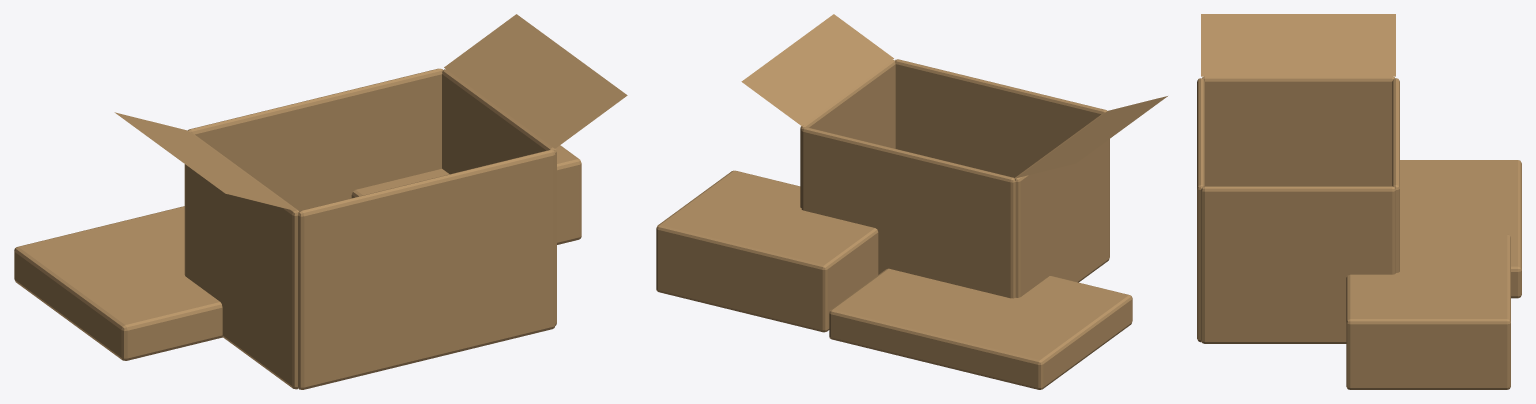
Rendered from CLN_CARDBOARD_01.fbx.
The picture shows the model from 3 angles, left to right: view 1: azimuth 30°, elevation 25°; view 2: azimuth 150°, elevation 25°; view 3: azimuth 270°, elevation 25°; orthographic projection. The views are drawn at different scales.
Visible parts, largest first — view 1: CLN_CARDBOARD_01; view 2: CLN_CARDBOARD_01; view 3: CLN_CARDBOARD_01.
Part boxes in pixels (<box>): CLN_CARDBOARD_01: <box>14,14,627,389</box>; CLN_CARDBOARD_01: <box>656,14,1167,389</box>; CLN_CARDBOARD_01: <box>1197,14,1521,389</box>.
Bounding box in the file's own units: 110 × 48 × 74.9.
